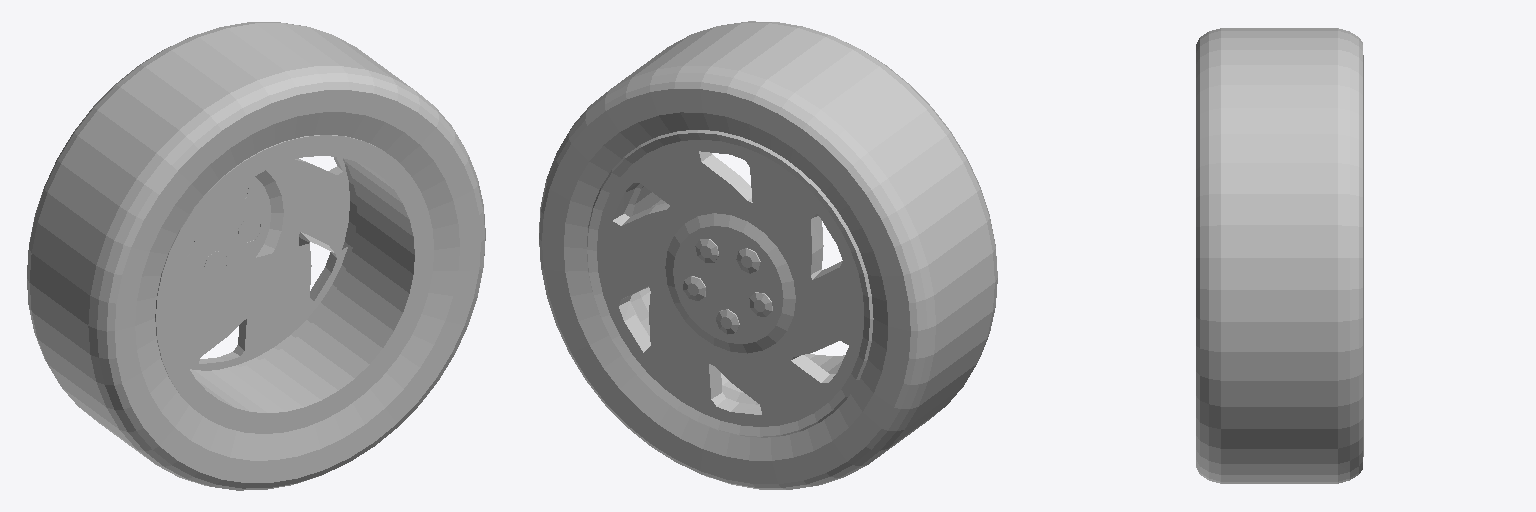
3 views of the same model, side by side, from view 1: azimuth 30°, elevation 25°; view 2: azimuth 150°, elevation 25°; view 3: azimuth 270°, elevation 25° (orthographic).
Visible parts, largest first — view 1: H124_901B_L_H124_901B_L_3_DM, H124_901B_L_H124_901B_L_2_DaS, H124_901B_L_1_D_H124_901B_L; view 2: H124_901B_L_H124_901B_L_3_DM, H124_901B_L_H124_901B_L_2_DaS, H124_901B_L_1_D_H124_901B_L; view 3: H124_901B_L_H124_901B_L_3_DM.
Boxes of the visible parts, x1=… form: H124_901B_L_H124_901B_L_3_DM: x1=27, y1=22, x2=485, y2=490; H124_901B_L_H124_901B_L_2_DaS: x1=155, y1=135, x2=433, y2=433; H124_901B_L_1_D_H124_901B_L: x1=195, y1=202, x2=239, y2=251; H124_901B_L_H124_901B_L_3_DM: x1=539, y1=21, x2=997, y2=489; H124_901B_L_H124_901B_L_2_DaS: x1=587, y1=130, x2=873, y2=437; H124_901B_L_1_D_H124_901B_L: x1=705, y1=260, x2=751, y2=309; H124_901B_L_H124_901B_L_3_DM: x1=1196, y1=28, x2=1363, y2=483.
Size of the model in its own units: 74.28 by 74.28 by 27.35.